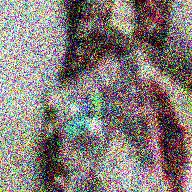러키펜정: (88, 116, 102, 135)
씨엠지세파클러캡슐: (68, 102, 93, 116)
에르도캡슐: (66, 115, 89, 138)
휴티렌정: (91, 91, 104, 119)
